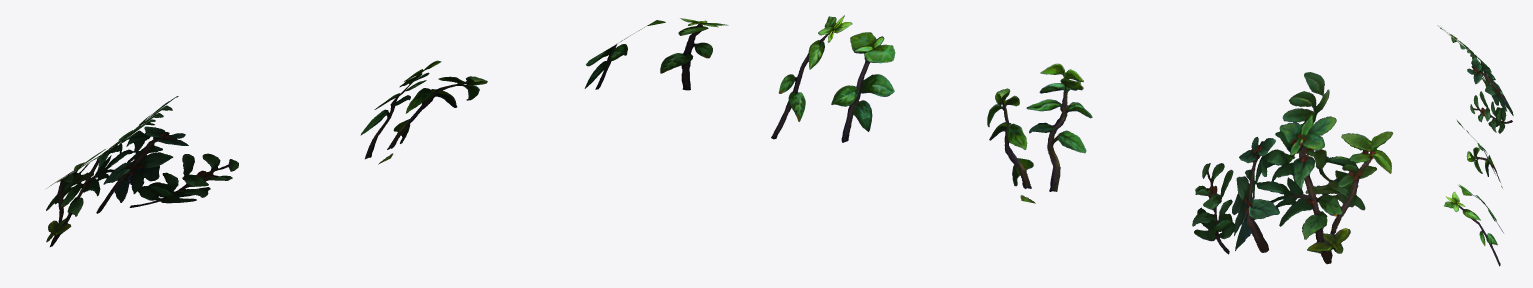
The model's file is 2_Loading_ShuPian_01.FBX.
3 views of the same model, side by side, from view 1: azimuth 30°, elevation 25°; view 2: azimuth 150°, elevation 25°; view 3: azimuth 270°, elevation 25° (orthographic). The views are drawn at different scales.
Visible parts, largest first — view 1: 2_Loading_ShuPian_01_01, 2_Loading_ShuPian_01_02, 2_Loading_ShuPian_01_03; view 2: 2_Loading_ShuPian_01_01, 2_Loading_ShuPian_01_03, 2_Loading_ShuPian_01_02; view 3: 2_Loading_ShuPian_01_01, 2_Loading_ShuPian_01_03, 2_Loading_ShuPian_01_02.
Part boxes in pixels (x1=…): 2_Loading_ShuPian_01_01: x1=46, y1=96, x2=238, y2=246; 2_Loading_ShuPian_01_02: x1=360, y1=60, x2=487, y2=164; 2_Loading_ShuPian_01_03: x1=584, y1=18, x2=728, y2=90; 2_Loading_ShuPian_01_01: x1=1192, y1=72, x2=1393, y2=264; 2_Loading_ShuPian_01_03: x1=771, y1=15, x2=895, y2=142; 2_Loading_ShuPian_01_02: x1=987, y1=63, x2=1092, y2=203; 2_Loading_ShuPian_01_01: x1=1437, y1=25, x2=1513, y2=133; 2_Loading_ShuPian_01_03: x1=1444, y1=184, x2=1503, y2=266; 2_Loading_ShuPian_01_02: x1=1456, y1=119, x2=1502, y2=188.
Bounding box in the file's own units: 500 × 125 × 106.
